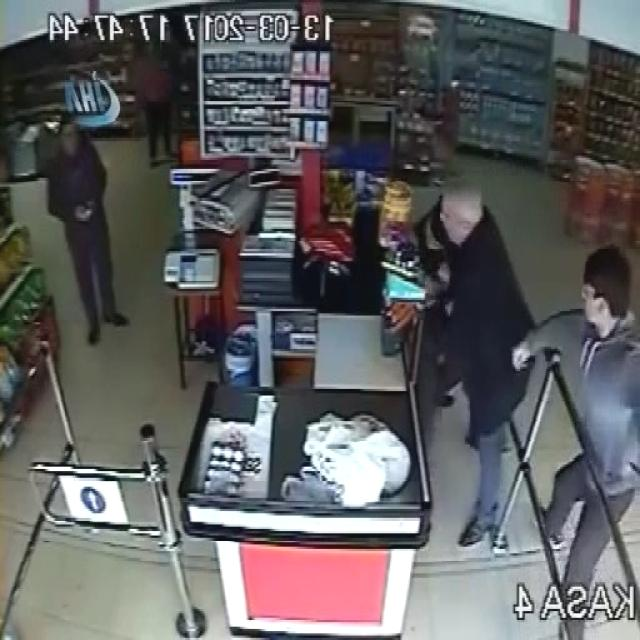fight: (385, 192, 543, 384)
